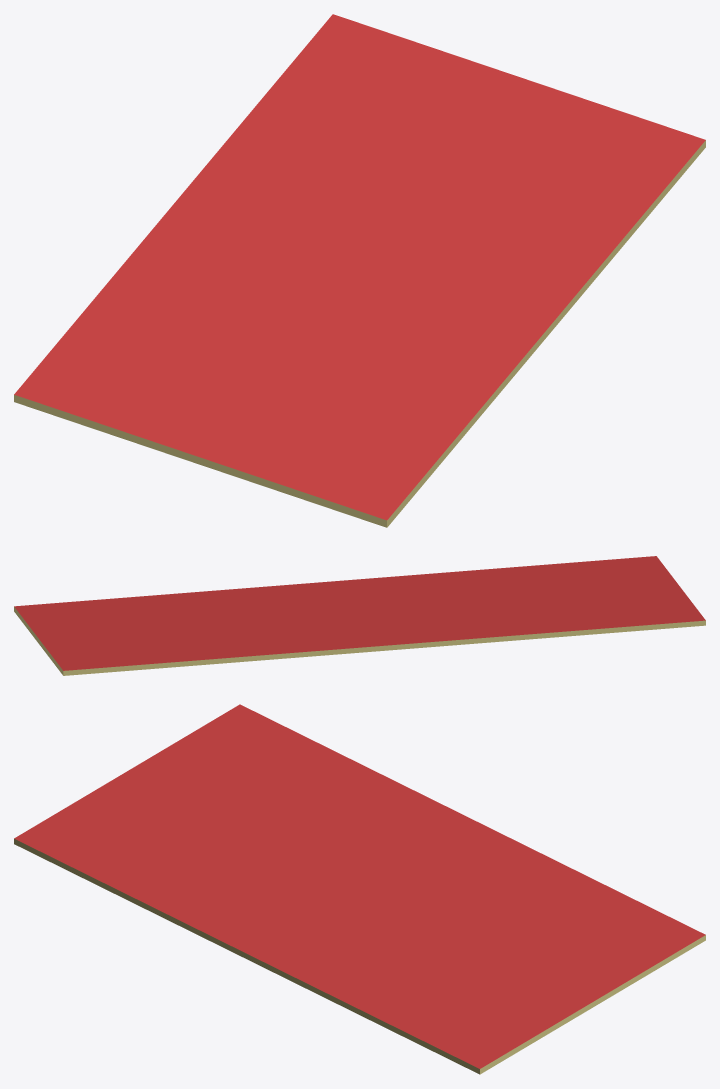
3 views of the same model, one above another, from view 1: azimuth 30°, elevation 25°; view 2: azimuth 150°, elevation 25°; view 3: azimuth 270°, elevation 25° (orthographic). The views are drawn at different scales.
Size of the model in its own units: 12.05 by 11.29 by 1.05.
